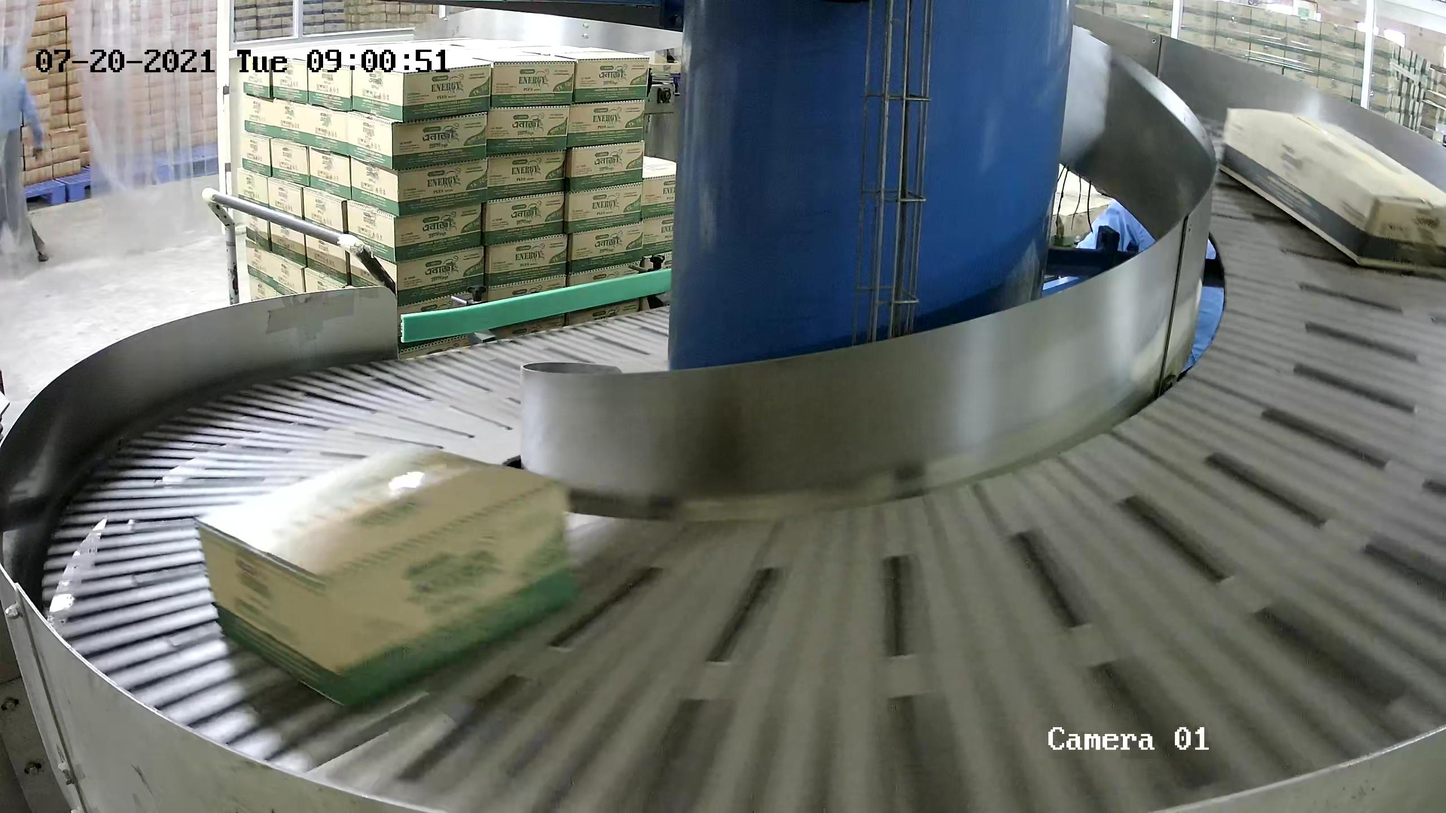Box: (195, 442, 578, 716), (1217, 106, 1446, 276)
